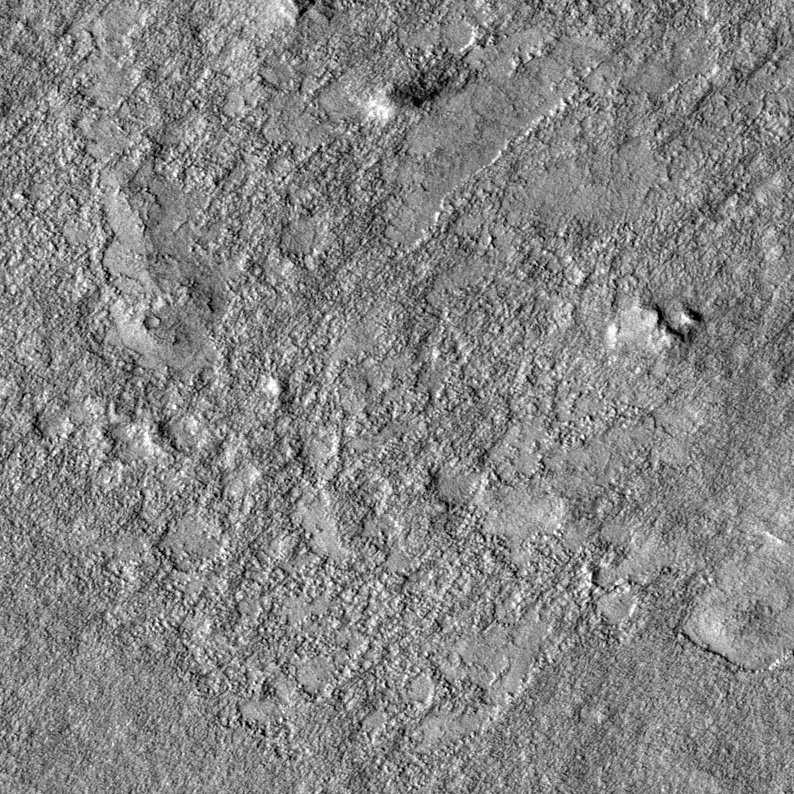dust_devil: (364, 67, 452, 126)
